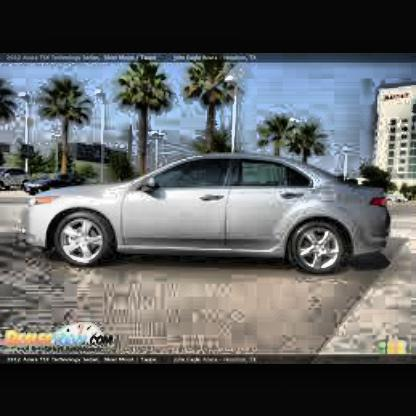Acura TSX Sedan 2012: (25, 146, 396, 276)
